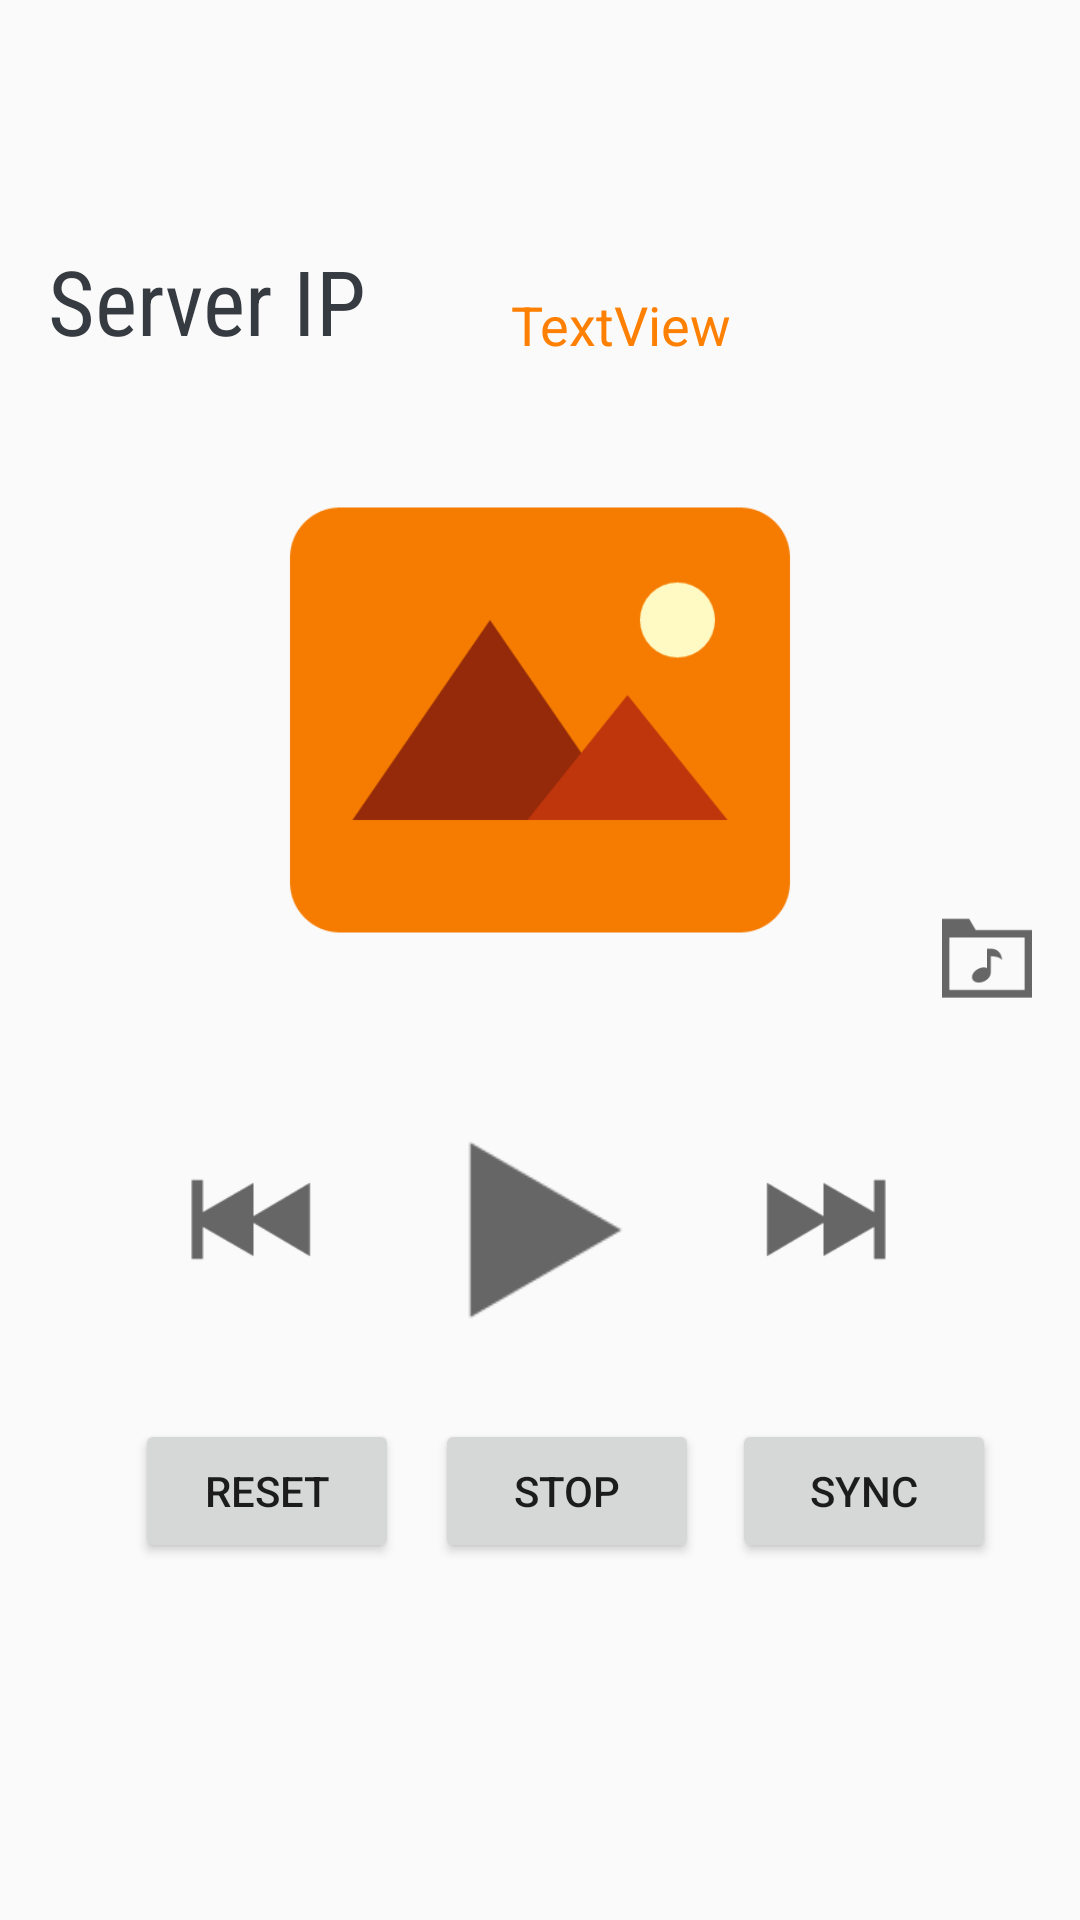

Named icons in this screenshot (1080px×1920px) and their bounding boxes, (x1, y1, x2, y2):
next: (766, 1179, 886, 1260)
play: (469, 1143, 621, 1317)
playlist: (942, 918, 1032, 998)
prev: (191, 1179, 311, 1260)
